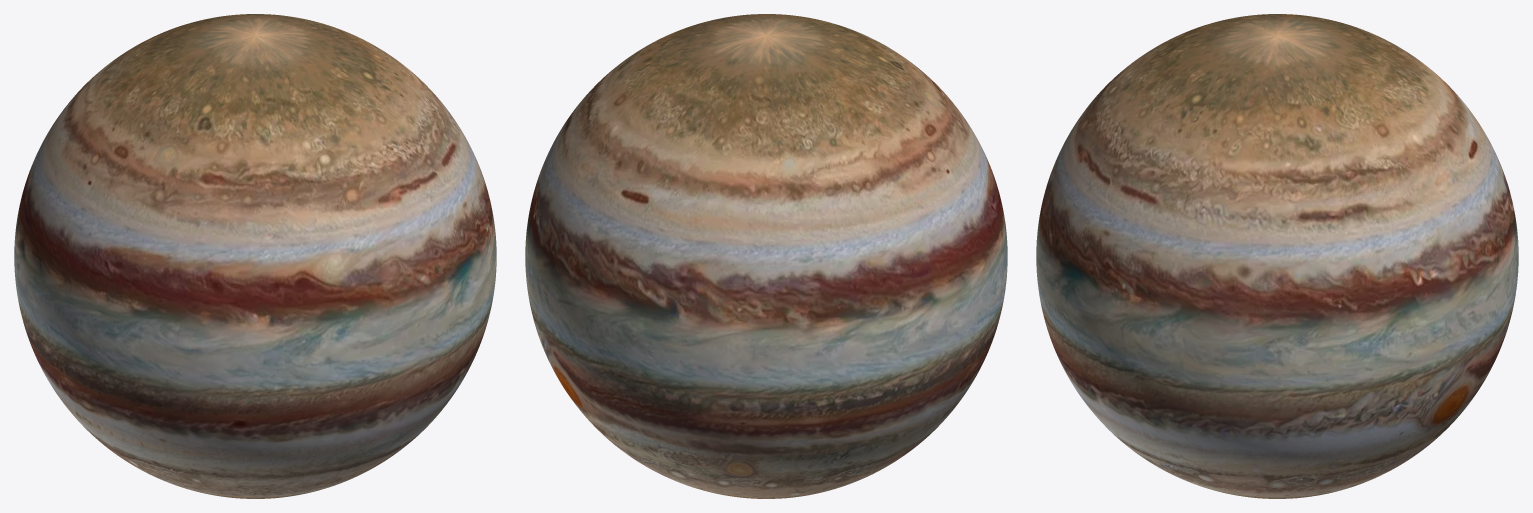
Rendered from jupiter_compressed.glb.
3 views of the same model, side by side, from view 1: azimuth 30°, elevation 25°; view 2: azimuth 150°, elevation 25°; view 3: azimuth 270°, elevation 25° (orthographic).
Parts seen in each view (by area): view 1: Object_4; view 2: Object_4; view 3: Object_4.
Boxes of the visible parts, x1=… form: Object_4: x1=14, y1=14, x2=496, y2=498; Object_4: x1=525, y1=14, x2=1007, y2=498; Object_4: x1=1036, y1=14, x2=1518, y2=498.
Size of the model in its own units: 2.23 by 2.25 by 2.23.
1 material, 1 textured.
